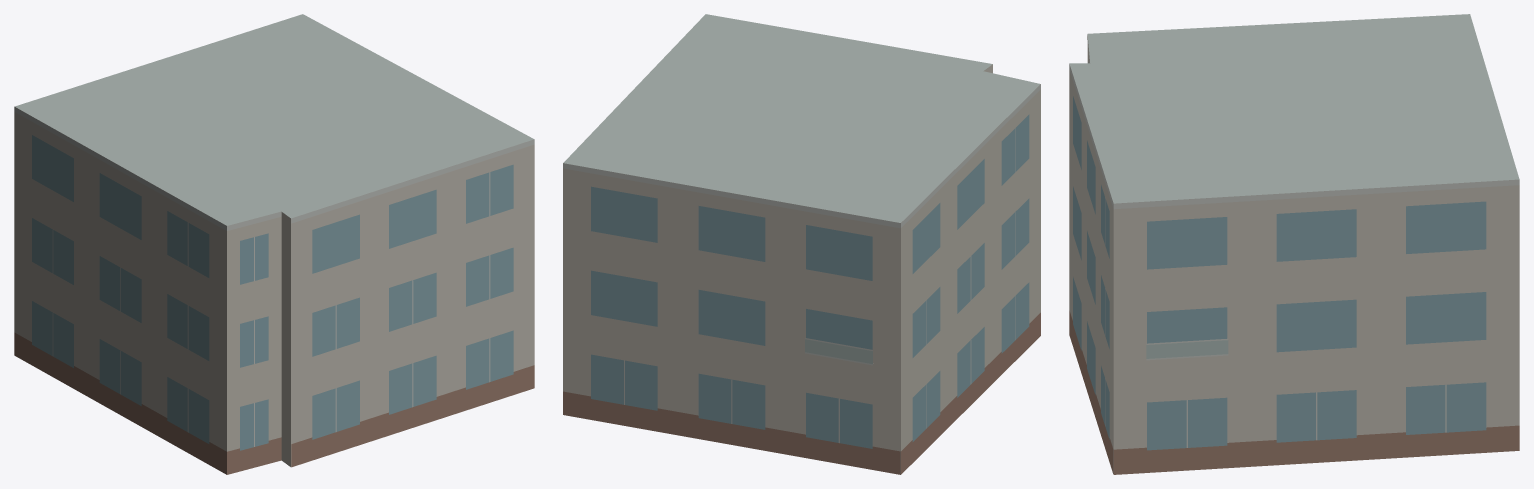
Rendered from survey-upis-32484670.glb.
3 views of the same model, side by side, from view 1: azimuth 30°, elevation 25°; view 2: azimuth 150°, elevation 25°; view 3: azimuth 270°, elevation 25° (orthographic). The views are drawn at different scales.
Parts seen in each view (by area): view 1: survey-upis-32484670.tmp; view 2: survey-upis-32484670.tmp; view 3: survey-upis-32484670.tmp.
Part boxes in pixels (x1,y1,x2,y2): survey-upis-32484670.tmp: [14, 14, 534, 474]; survey-upis-32484670.tmp: [563, 14, 1040, 474]; survey-upis-32484670.tmp: [1069, 14, 1519, 474].
Size of the model in its own units: 17.59 by 11.73 by 17.66.
